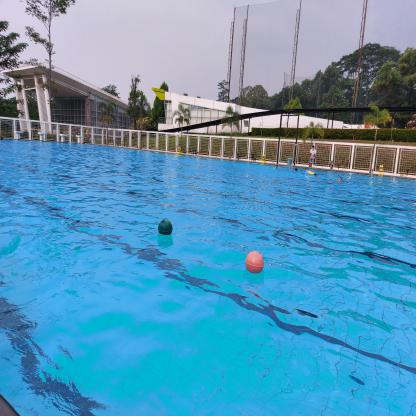green_buoy: (157, 218, 176, 236)
red_buoy: (244, 250, 266, 276)
